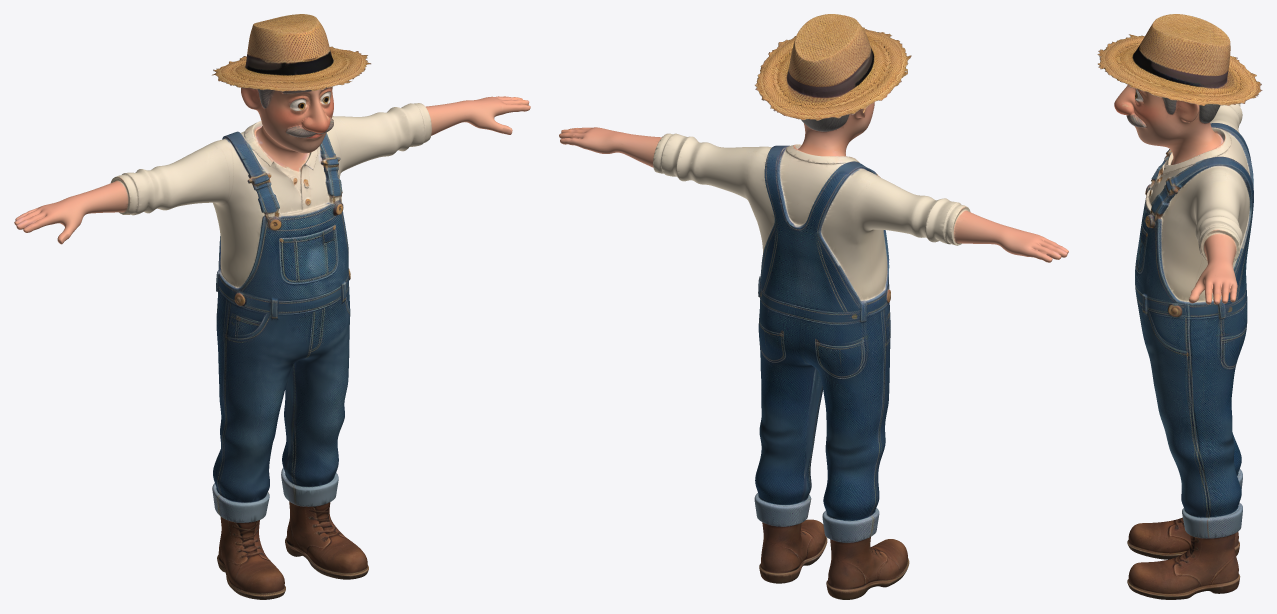
File: Meshy_AI_Farmer_with_Arms_Outs_0506122325_texture.glb
3 renders of one model, left to right at view 1: azimuth 30°, elevation 25°; view 2: azimuth 150°, elevation 25°; view 3: azimuth 270°, elevation 25°, orthographic.
Bounding box in the file's own units: 1.84 × 1.9 × 0.5185.
Materials: 1 (1 with a texture image).
